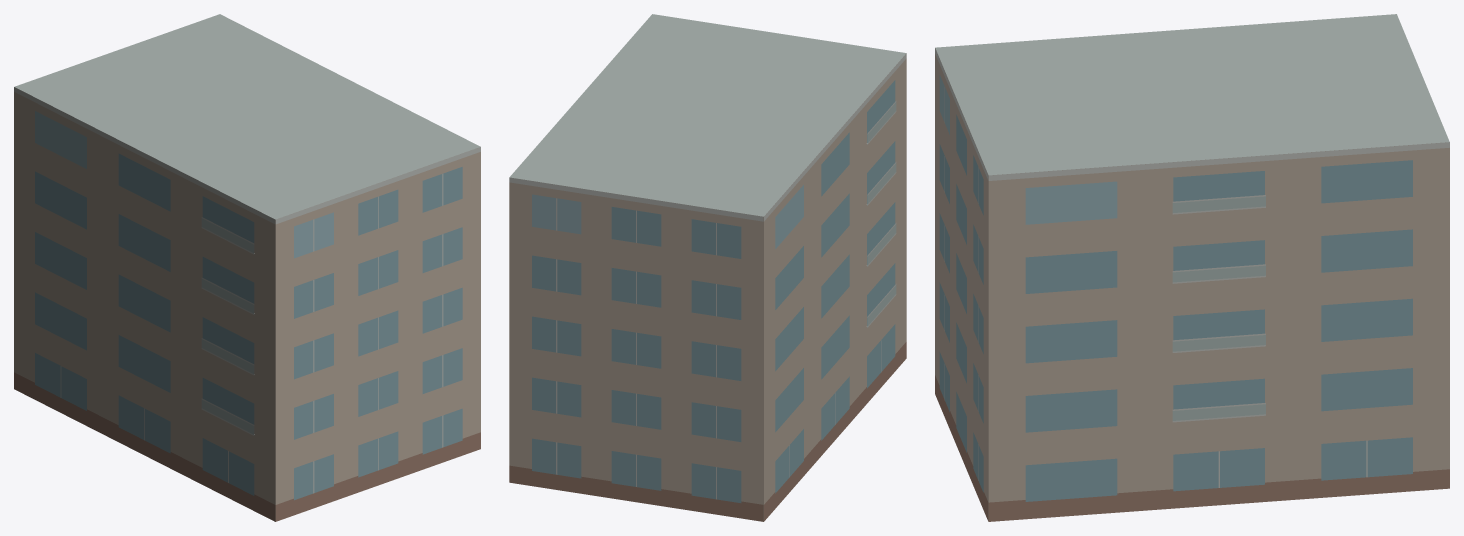
Rendered from survey-upis-32760719.glb.
3 views of the same model, side by side, from view 1: azimuth 30°, elevation 25°; view 2: azimuth 150°, elevation 25°; view 3: azimuth 270°, elevation 25° (orthographic). The views are drawn at different scales.
Visible parts, largest first — view 1: survey-upis-32760719.tmp; view 2: survey-upis-32760719.tmp; view 3: survey-upis-32760719.tmp.
Part boxes in pixels (bbox=[...]): survey-upis-32760719.tmp: bbox=[14, 14, 480, 521]; survey-upis-32760719.tmp: bbox=[509, 14, 906, 521]; survey-upis-32760719.tmp: bbox=[935, 14, 1449, 521].
Bounding box in the file's own units: 14.9 × 14.9 × 20.07.
